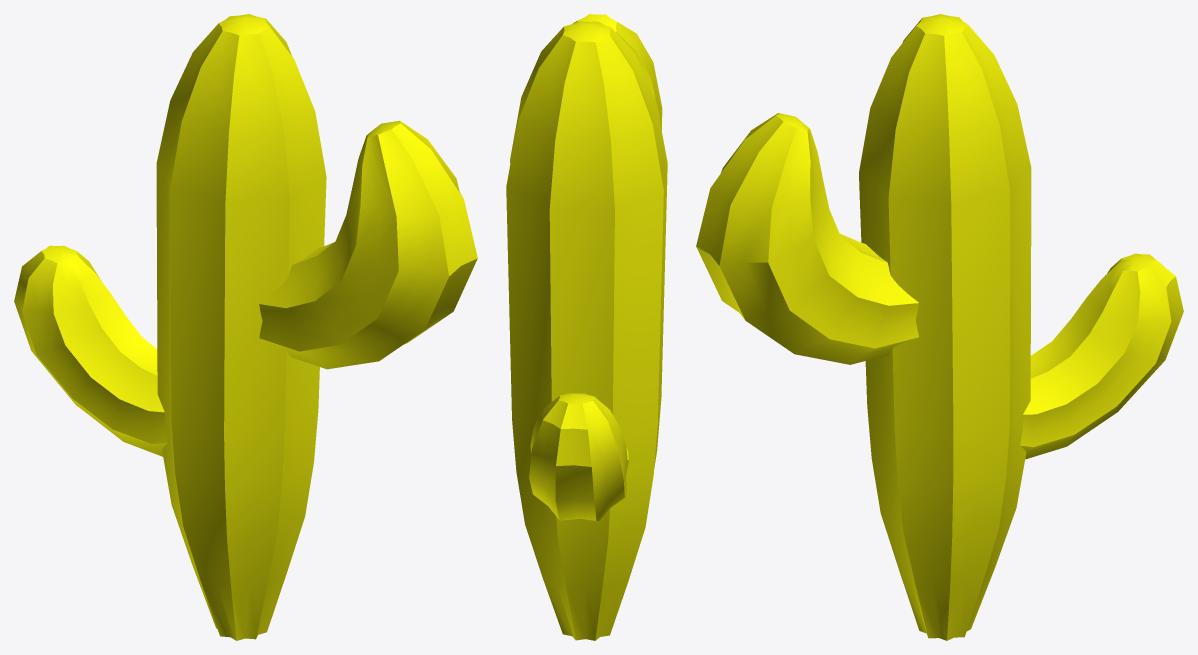
The picture shows the model from 3 angles, left to right: view 1: azimuth 30°, elevation 25°; view 2: azimuth 150°, elevation 25°; view 3: azimuth 270°, elevation 25°; orthographic projection.
Parts seen in each view (by area): view 1: military_cactus1; view 2: military_cactus1; view 3: military_cactus1.
Boxes of the visible parts, x1=… form: military_cactus1: x1=14, y1=14, x2=477, y2=640; military_cactus1: x1=506, y1=14, x2=667, y2=640; military_cactus1: x1=696, y1=14, x2=1183, y2=640.
Size of the model in its own units: 0.00588 by 0.0131 by 0.00942.
Materials: 1 (1 with a texture image).
